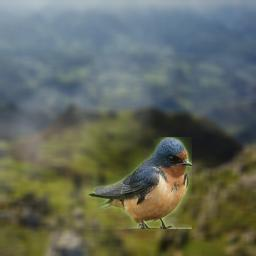Swallow: (83, 137, 192, 229)
